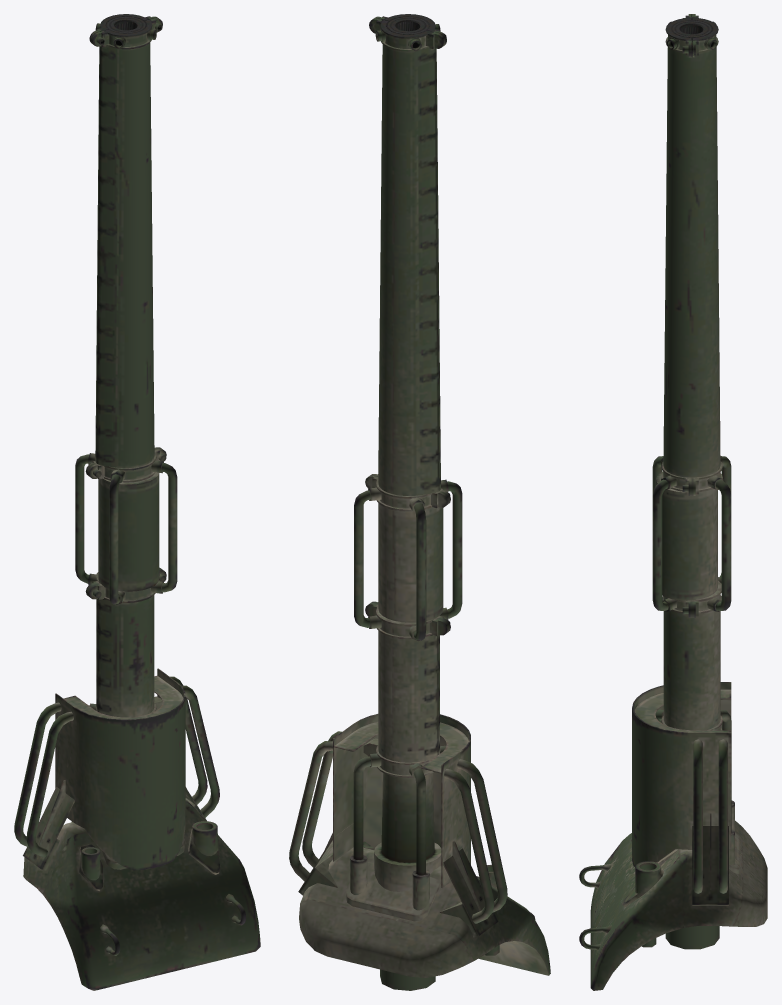
File: Gun_04.glb
3 renders of one model, left to right at view 1: azimuth 30°, elevation 25°; view 2: azimuth 150°, elevation 25°; view 3: azimuth 270°, elevation 25°, orthographic. The views are drawn at different scales.
Visible parts, largest first — view 1: set_0_group_0; view 2: set_0_group_0; view 3: set_0_group_0.
Boxes of the visible parts, x1=… form: set_0_group_0: x1=14, y1=14, x2=260, y2=990; set_0_group_0: x1=289, y1=14, x2=550, y2=990; set_0_group_0: x1=579, y1=14, x2=767, y2=990.
Size of the model in its own units: 0.9796 by 4.43 by 0.8199.
1 material, 1 textured.
